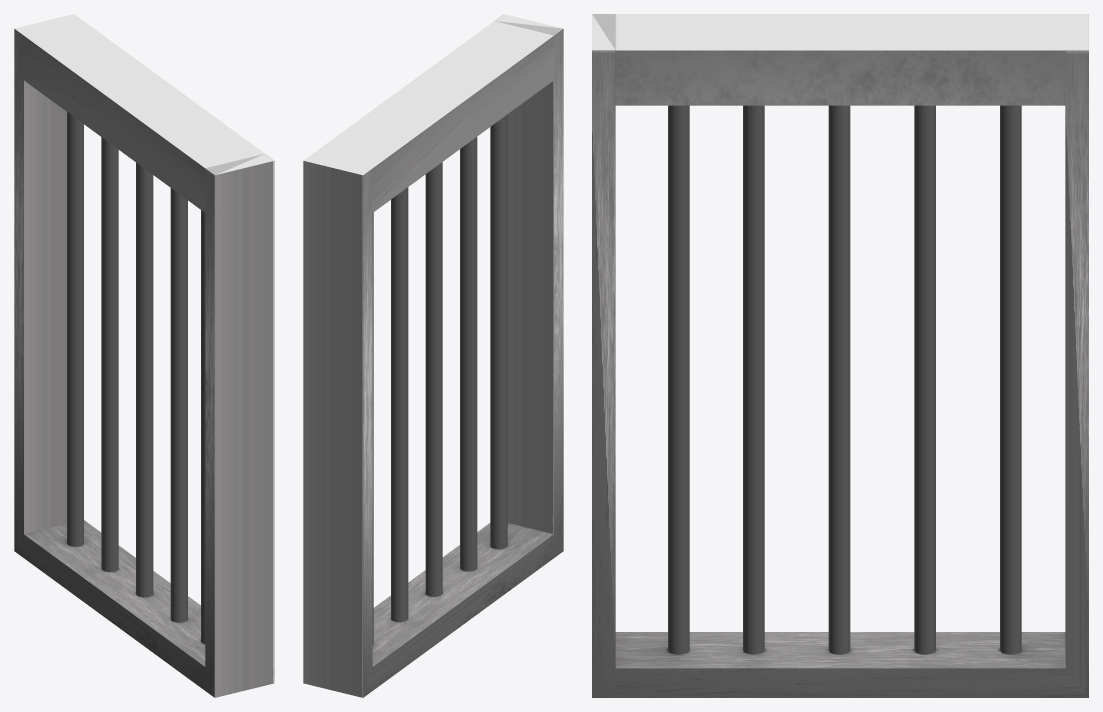
The model's file is Gate1.fbx.
3 renders of one model, left to right at view 1: azimuth 30°, elevation 25°; view 2: azimuth 150°, elevation 25°; view 3: azimuth 270°, elevation 25°, orthographic. The views are drawn at different scales.
Parts seen in each view (by area): view 1: Cube.002, Circle.001, Circle.003, Circle.002, Circle.004, Circle; view 2: Cube.002, Circle.001, Circle.003, Circle, Circle.002, Circle.004; view 3: Cube.002, Circle.002, Circle, Circle.001, Circle.003, Circle.004.
Part boxes in pixels (x1=…): Cube.002: x1=14, y1=14, x2=274, y2=697; Circle.001: x1=170, y1=188, x2=187, y2=622; Circle.003: x1=101, y1=137, x2=118, y2=571; Circle.002: x1=136, y1=162, x2=153, y2=597; Circle.004: x1=67, y1=112, x2=83, y2=546; Circle: x1=201, y1=210, x2=205, y2=643; Cube.002: x1=303, y1=14, x2=563, y2=697; Circle.001: x1=460, y1=137, x2=477, y2=571; Circle.003: x1=391, y1=187, x2=408, y2=621; Circle: x1=490, y1=114, x2=507, y2=549; Circle.002: x1=425, y1=162, x2=442, y2=596; Circle.004: x1=372, y1=212, x2=373, y2=644; Cube.002: x1=592, y1=14, x2=1088, y2=697; Circle.002: x1=828, y1=105, x2=850, y2=654; Circle: x1=668, y1=105, x2=689, y2=654; Circle.001: x1=743, y1=105, x2=764, y2=654; Circle.003: x1=914, y1=105, x2=935, y2=654; Circle.004: x1=1000, y1=105, x2=1021, y2=654.
Size of the model in its own units: 80 by 667 by 464.
Materials: 2 (1 with a texture image).
